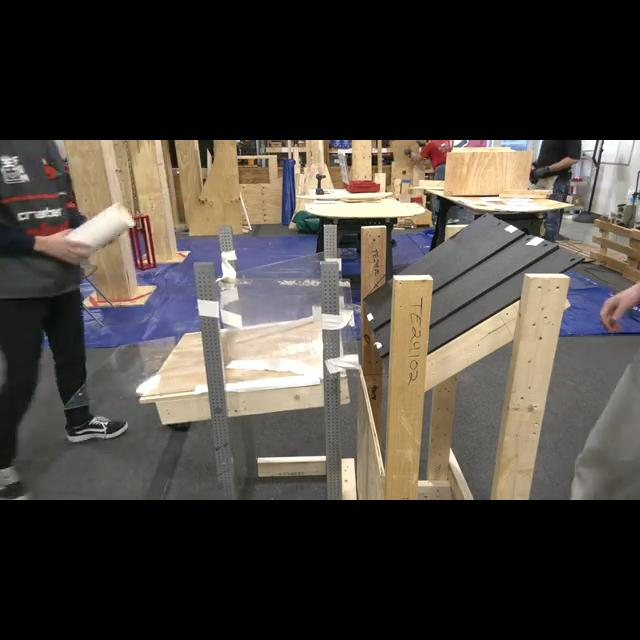CORAL: (63, 201, 135, 257)
